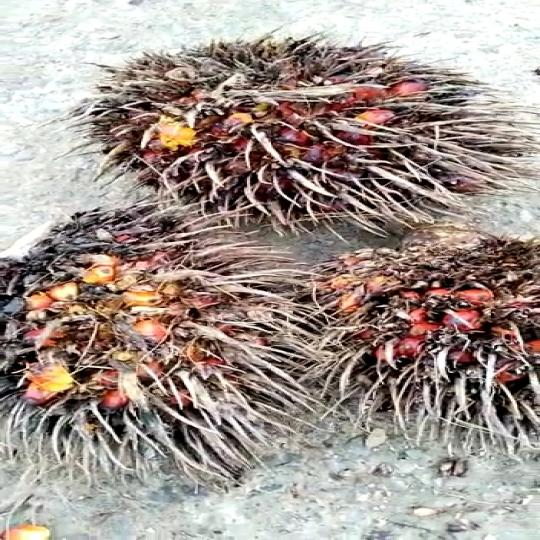terlalu masak: (62, 44, 540, 232), (0, 207, 310, 433), (253, 215, 540, 450)
